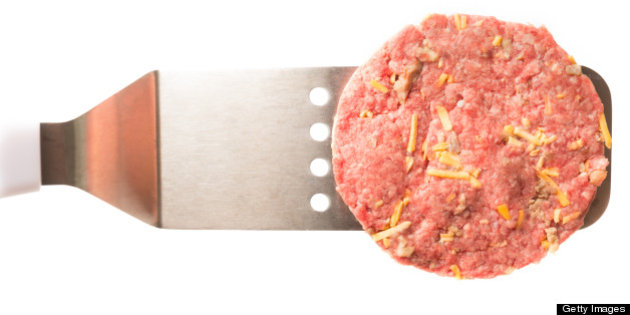ground_beef: (324, 9, 614, 286)
